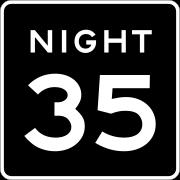Speed Limit -35-: (2, 69, 180, 158)
